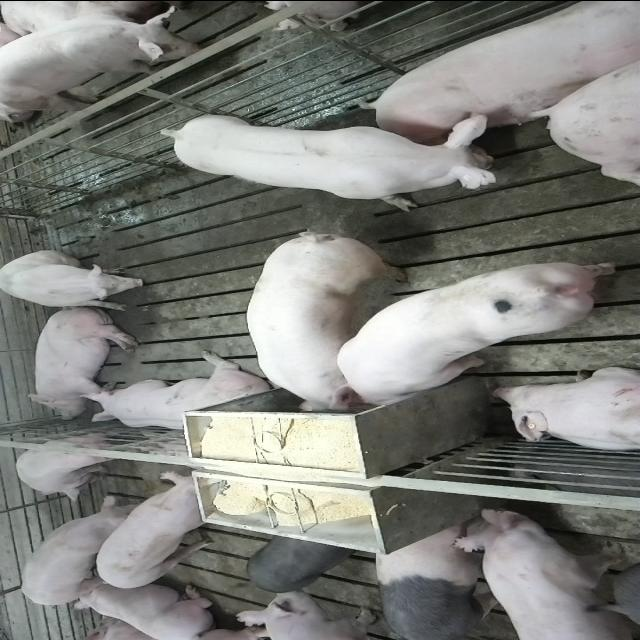Feeding: (333, 259, 618, 410), (246, 239, 404, 420)
Lateral_lying: (22, 304, 140, 418)
Sitting: (0, 250, 147, 309)
Standing: (154, 111, 514, 211), (448, 504, 636, 638), (0, 0, 214, 116), (374, 516, 514, 638), (92, 470, 224, 590), (18, 493, 144, 607), (236, 590, 400, 640), (14, 436, 130, 504), (245, 534, 356, 593)
Sternal_lying: (80, 352, 275, 432), (491, 368, 640, 453), (70, 580, 217, 637)
